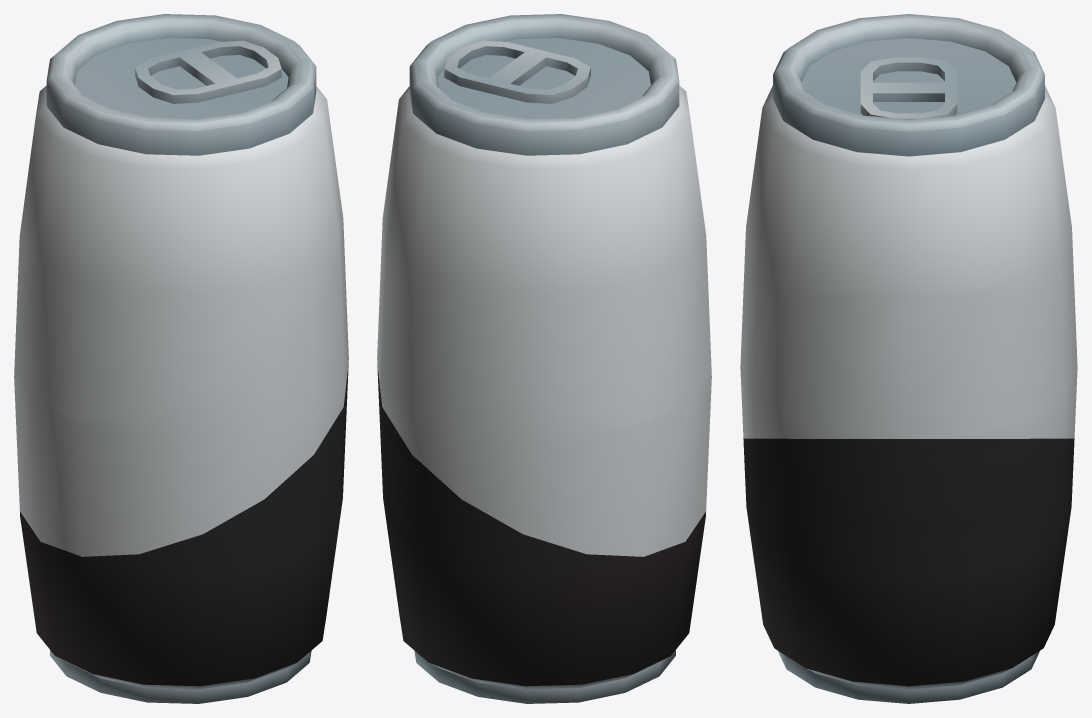
Rendered from can_005.fbx.
3 renders of one model, left to right at view 1: azimuth 30°, elevation 25°; view 2: azimuth 150°, elevation 25°; view 3: azimuth 270°, elevation 25°, orthographic.
Visible parts, largest first — view 1: can_005; view 2: can_005; view 3: can_005.
Part boxes in pixels (<box>): can_005: <box>14,14,348,703</box>; can_005: <box>377,14,711,703</box>; can_005: <box>740,14,1077,703</box>.
Size of the model in its own units: 7.64 by 7.64 by 14.6.
